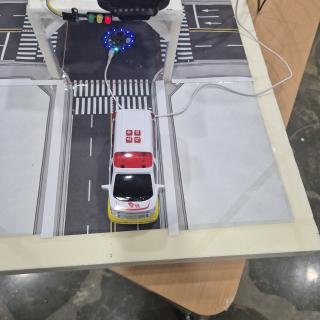Ambulance: (101, 109, 164, 224)
